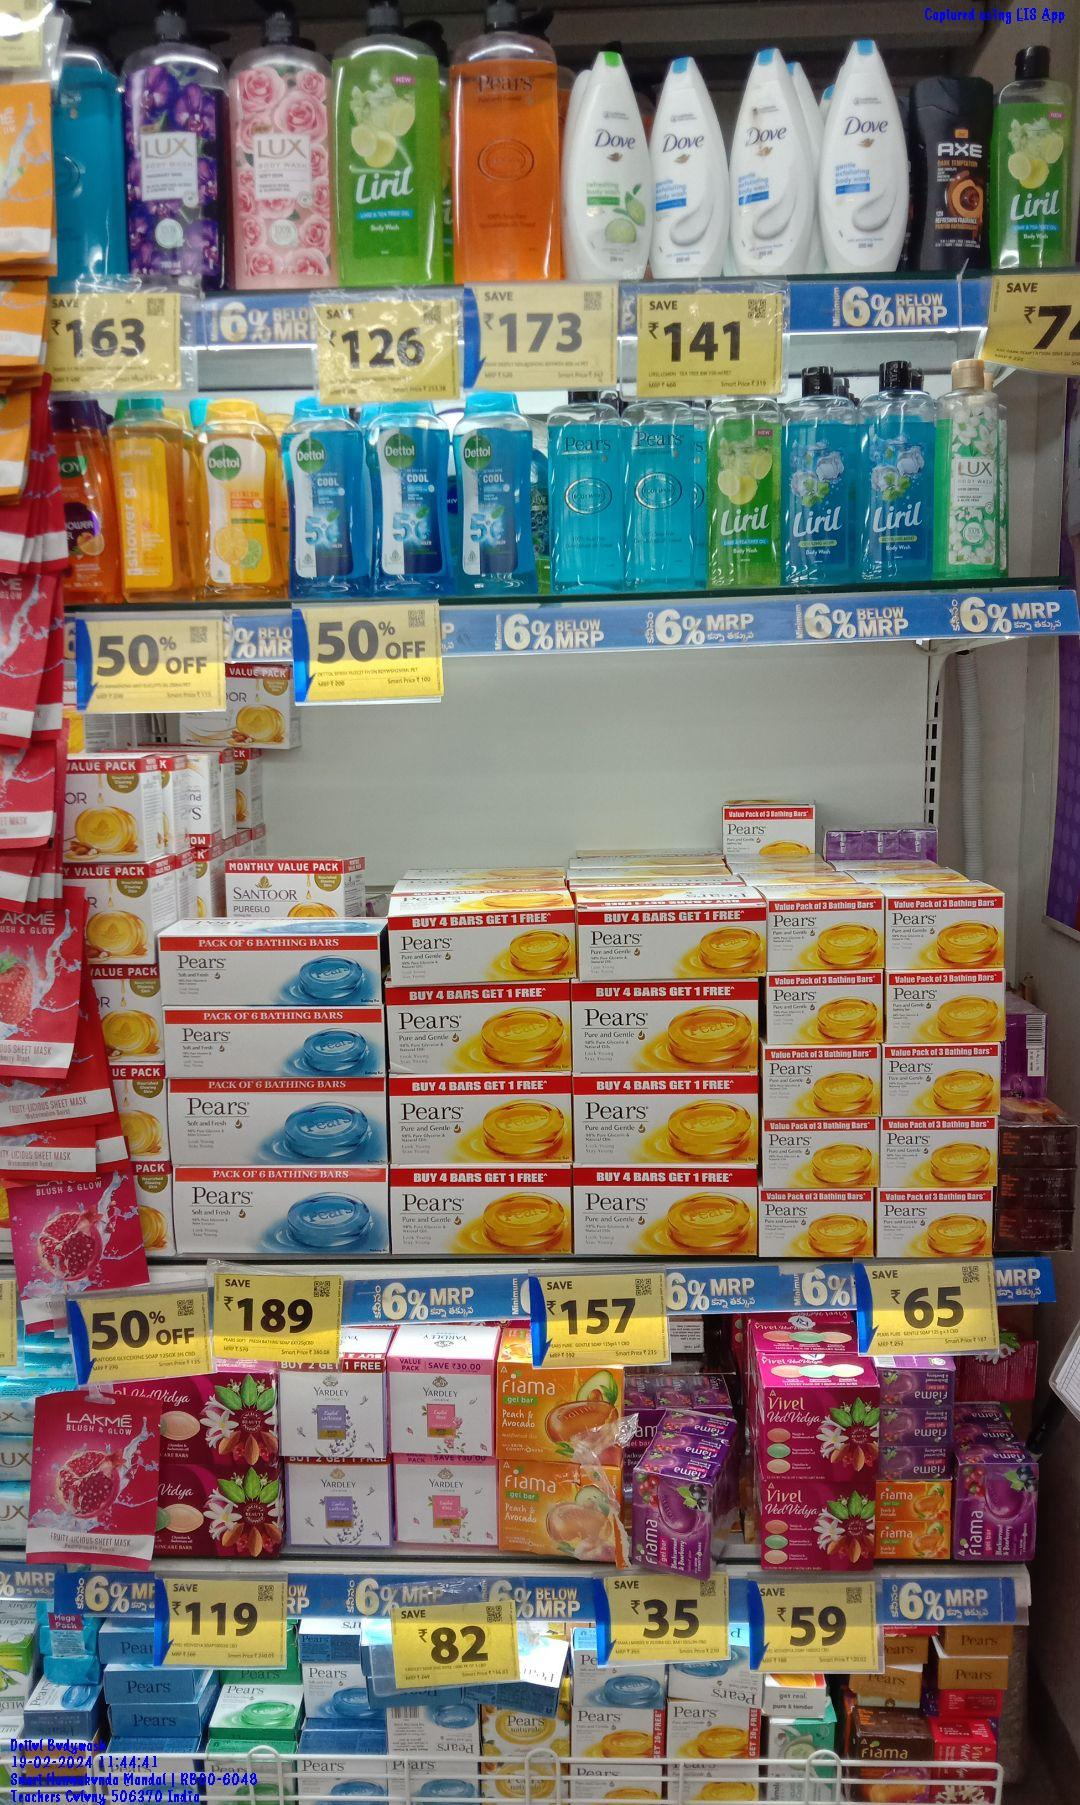Dettol_Bodywash_Cool: (372, 400, 456, 591), (454, 383, 530, 594), (293, 393, 360, 598)
Dettol_Bodywash_Refresh: (193, 393, 274, 607)
Dove_Gentle_Exfoliating_Body_Wash_250ML: (818, 40, 914, 285), (729, 33, 814, 283), (644, 44, 714, 276)
Dove_Refreshing_Body_Wash_250ML: (563, 40, 640, 288)
Liril_Cooling_Mint_Body_Wash_250ML: (860, 347, 940, 580), (784, 351, 860, 585)
Liril_Lime_and_Tea_Tree_Oil_Body_Wash_250ML: (1004, 33, 1077, 276), (711, 387, 787, 591)
Lux_Body_Wash_Skin_Detox_Freesia_Scent_and_Alove_Vera_245ML: (944, 341, 1005, 580)
Pears_Pure_Glycerin_and_Mint_Extracts_Body_Wash_250ML: (544, 393, 630, 591)
